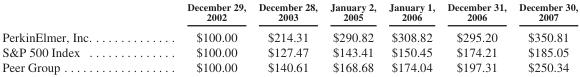table: (1, 0, 577, 73)
table column: (1, 0, 139, 73), (139, 0, 251, 73), (251, 0, 323, 73), (440, 0, 512, 73), (512, 0, 577, 73), (381, 0, 440, 73), (323, 0, 381, 73)
table column header: (1, 0, 577, 25)
table row: (1, 0, 577, 25), (1, 25, 577, 43), (1, 43, 577, 58), (1, 58, 577, 73)
